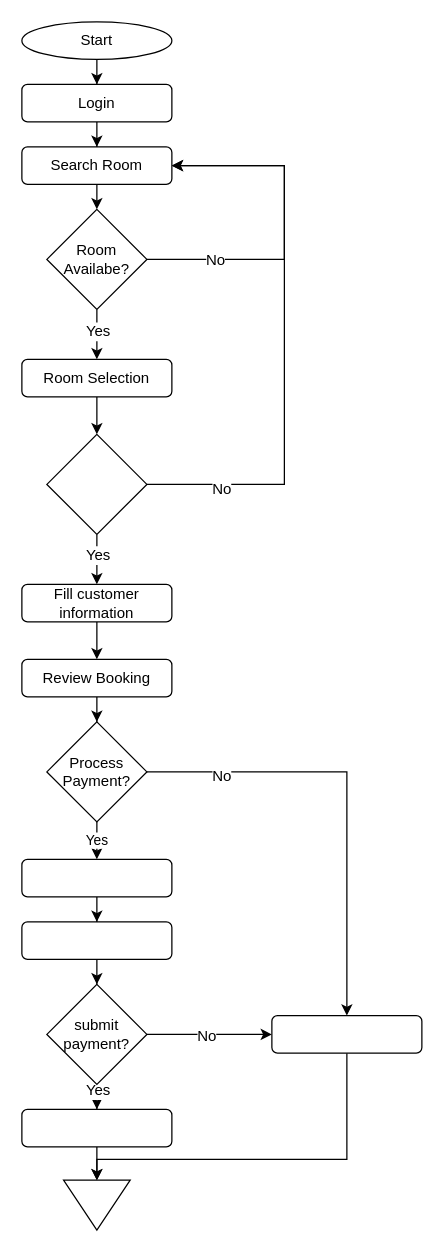
The diagram is 444 pixels wide and 1253 high, and some of its shapes have lost their labels. The centre of each missing label's shape, as x and y in pixels:
"Add promotion" belongs at (x=96, y=940).
"Booking?" belongs at (x=96, y=483).
"Cancel Booking" belongs at (x=346, y=1033).
"Fill payment Info" belongs at (x=96, y=877).
"Save reservation" belongs at (x=96, y=1127).
